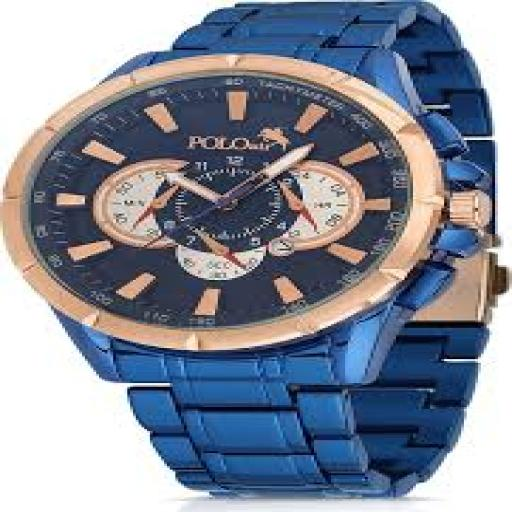KolSaati: (10, 1, 507, 493)
